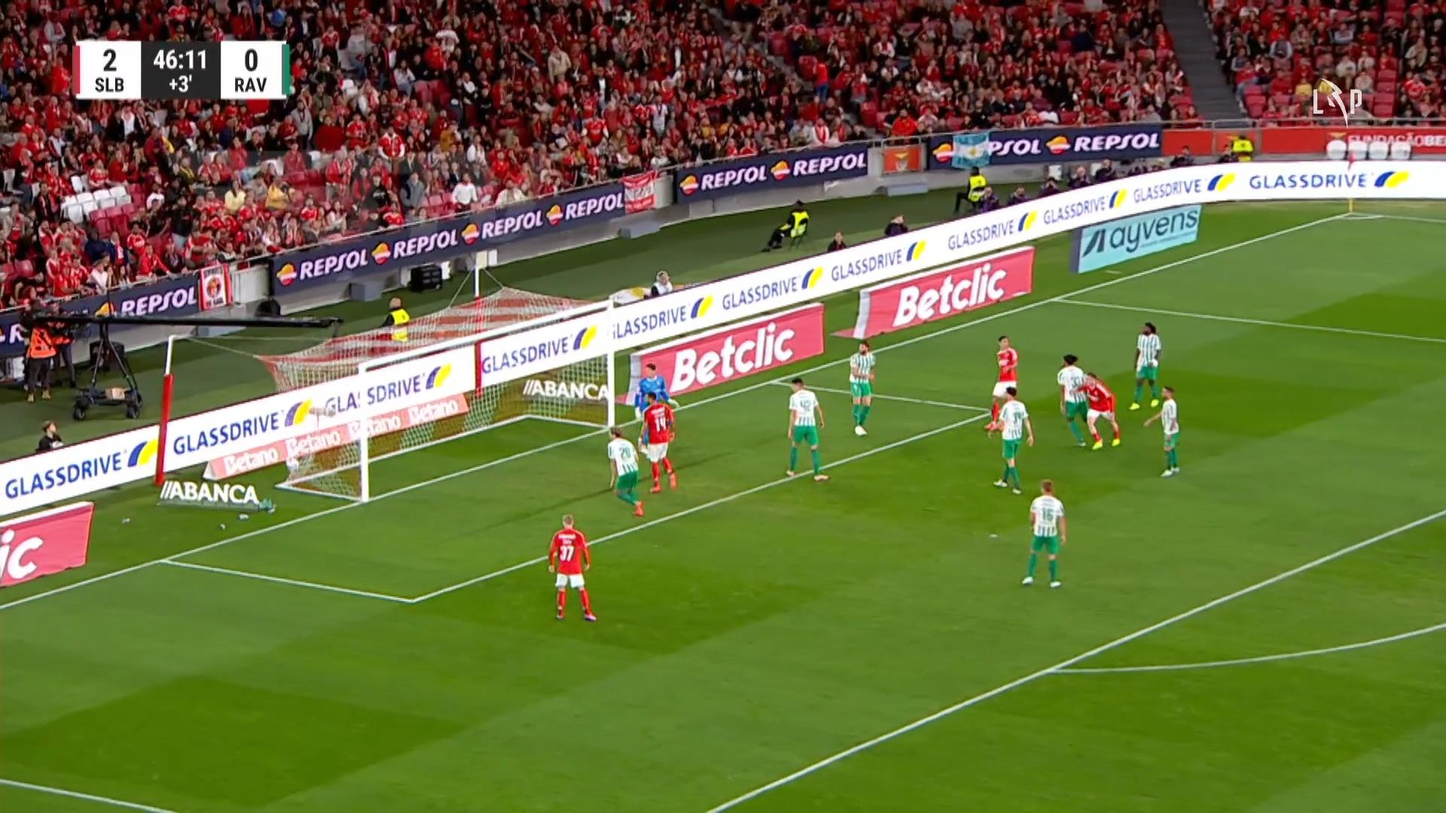ball: (286, 456, 299, 471)
goalkeeper: (633, 362, 678, 454)
player: (547, 513, 597, 622), (1020, 478, 1067, 587), (988, 385, 1034, 494), (783, 376, 828, 481), (638, 389, 678, 493), (1076, 370, 1121, 449), (1142, 385, 1180, 477), (606, 425, 644, 516), (984, 334, 1019, 431), (1056, 352, 1089, 446), (1128, 321, 1162, 410), (847, 340, 876, 436)
